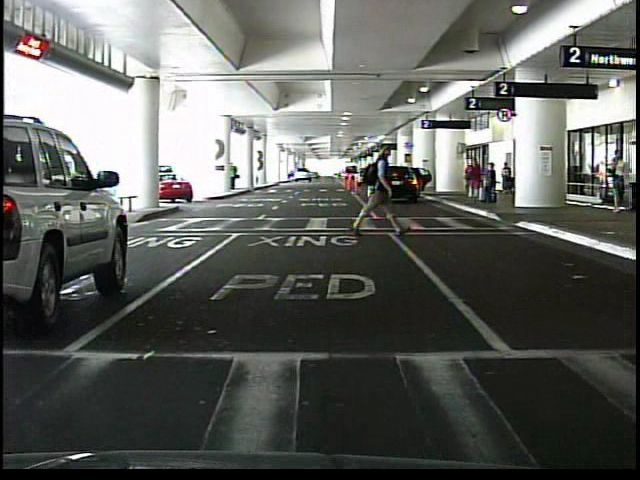person: (352, 148, 408, 239), (462, 159, 484, 203), (609, 151, 624, 214), (485, 163, 498, 203), (501, 163, 511, 192), (230, 164, 240, 192)
